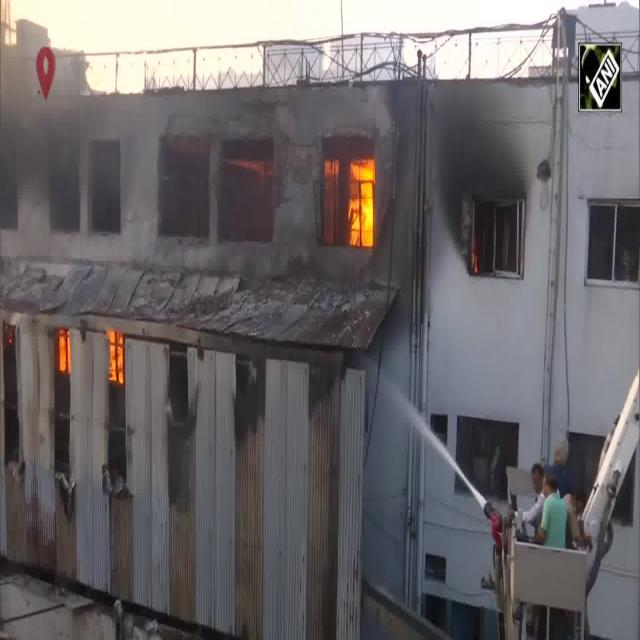Fire: (351, 167, 374, 241), (104, 328, 125, 382), (53, 322, 69, 379)
